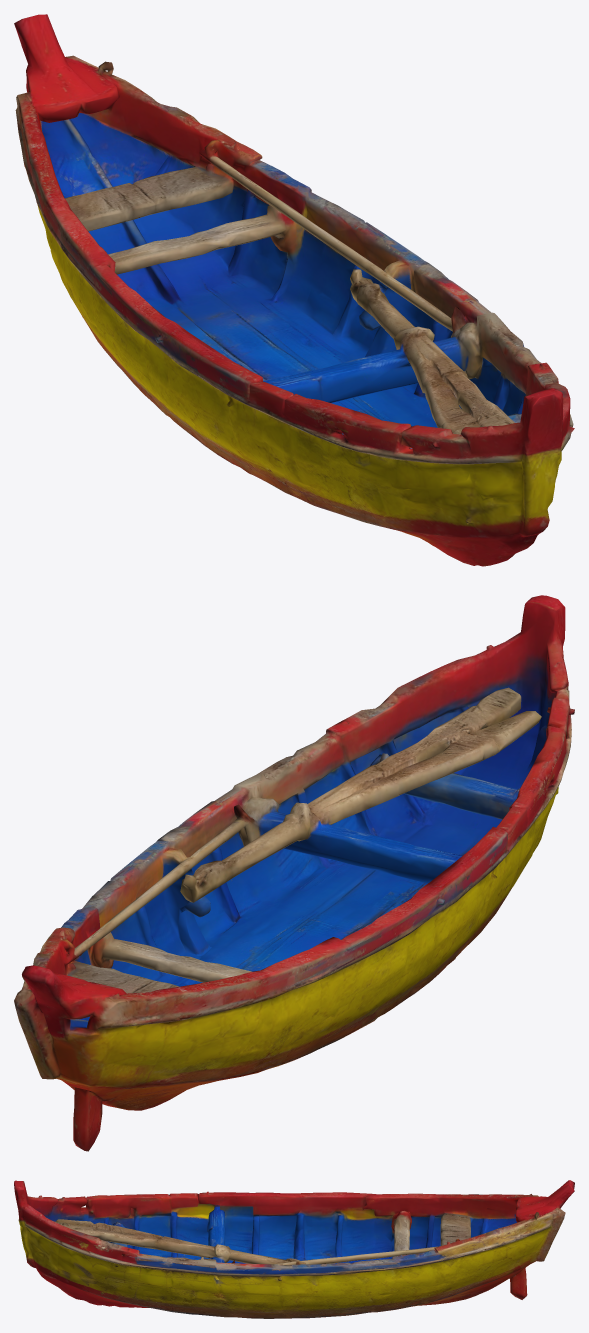
The model's file is doonga.glb.
3 renders of one model, top to bottom at view 1: azimuth 30°, elevation 25°; view 2: azimuth 150°, elevation 25°; view 3: azimuth 270°, elevation 25°, orthographic. The views are drawn at different scales.
Visible parts, largest first — view 1: tripo_node_c239a55c-ff99-4c4e-8838-9cafe3961414; view 2: tripo_node_c239a55c-ff99-4c4e-8838-9cafe3961414; view 3: tripo_node_c239a55c-ff99-4c4e-8838-9cafe3961414.
Boxes of the visible parts, box(x1,y1,x2,y2) form: tripo_node_c239a55c-ff99-4c4e-8838-9cafe3961414: box(14, 14, 574, 566); tripo_node_c239a55c-ff99-4c4e-8838-9cafe3961414: box(14, 595, 574, 1151); tripo_node_c239a55c-ff99-4c4e-8838-9cafe3961414: box(14, 1180, 574, 1318).
Bounding box in the file's own units: 0.3116 × 0.2484 × 1.
Materials: 1 (1 with a texture image).
